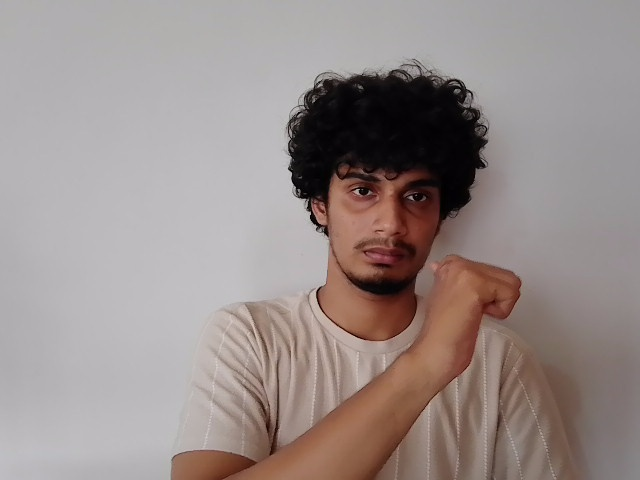how: (421, 256, 525, 369)
